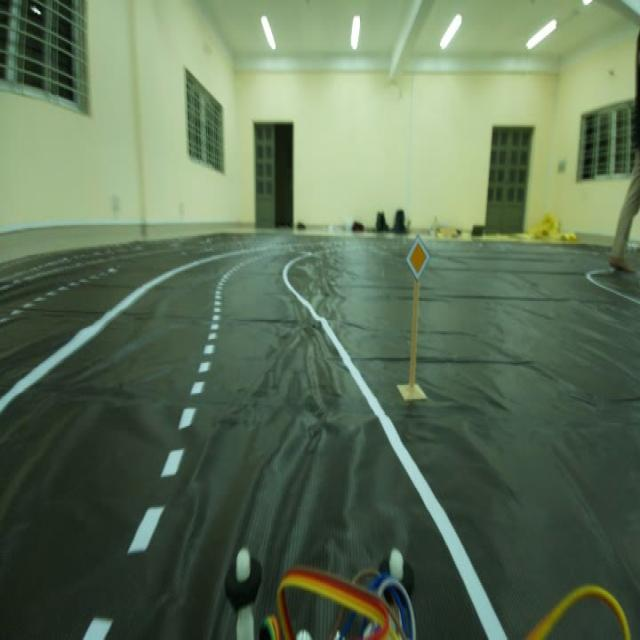priority: (398, 227, 441, 286)
